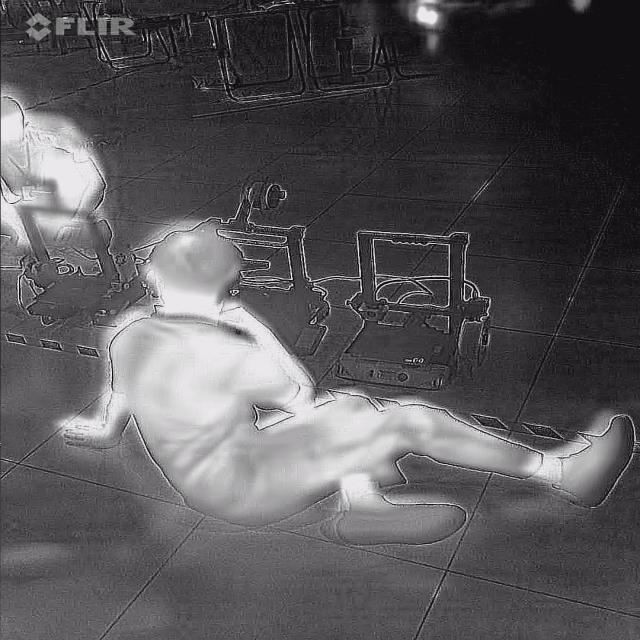Victim: (45, 221, 635, 553), (1, 82, 116, 269)
